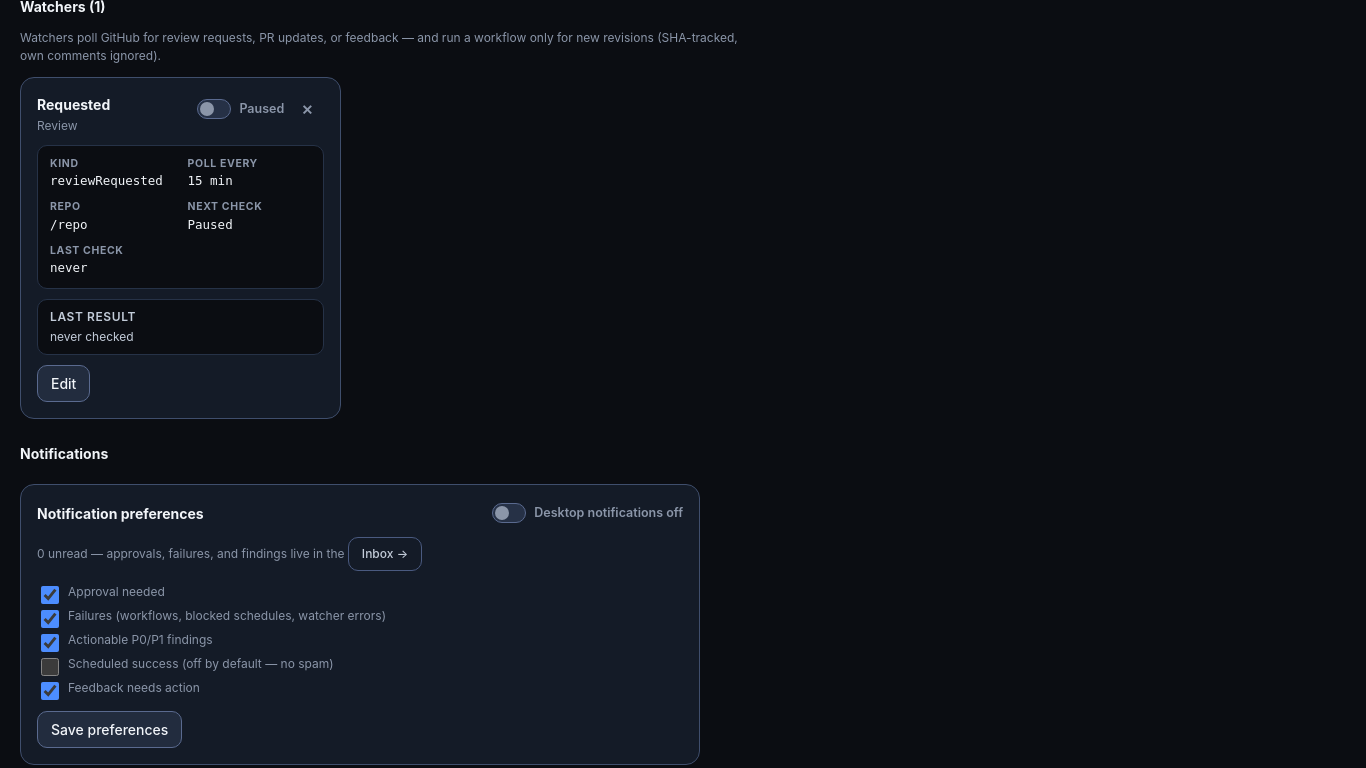
Test: shows repository validation before allowing an enabled watcher save
This screenshot has width=1366, height=768.
Click the button "Edit". click: (64, 384)
box: [37, 365, 90, 402]
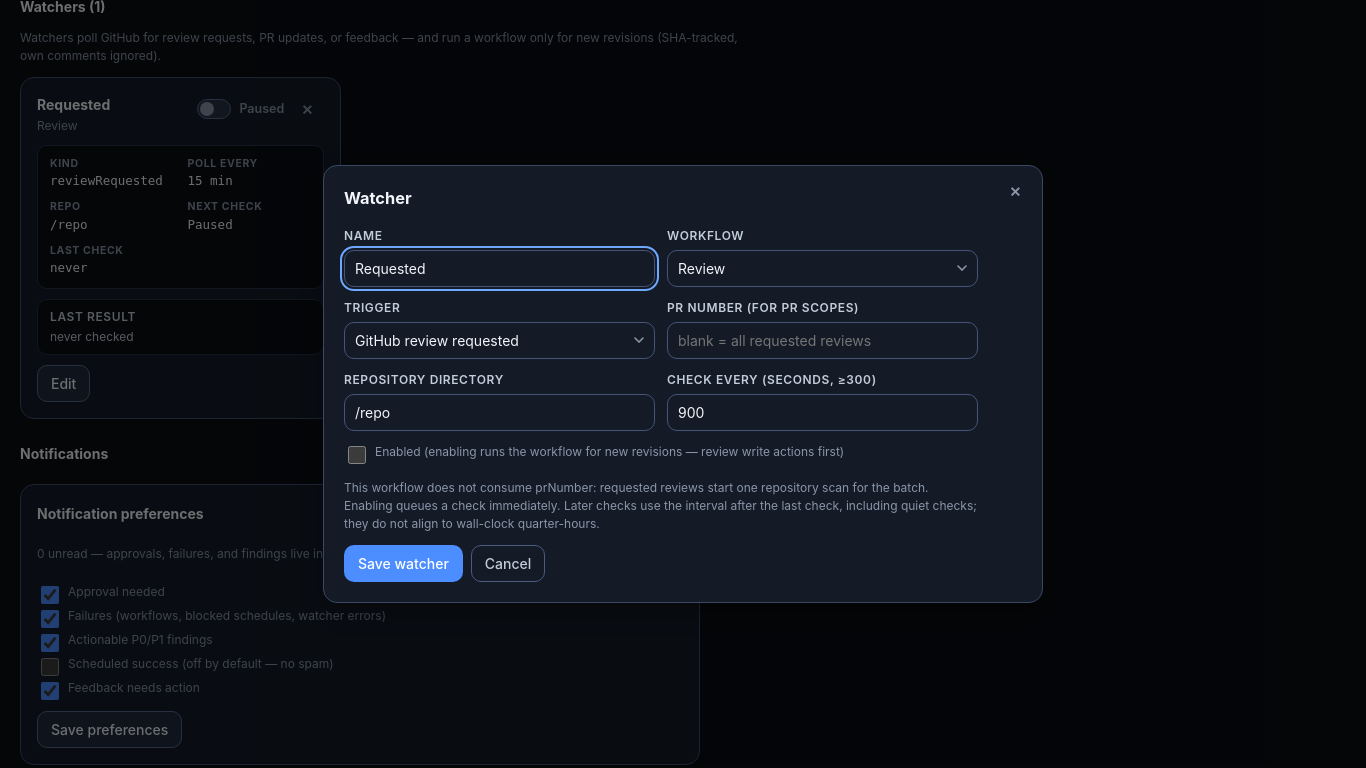
Click the checkbox labelled "Enabled". click: (357, 455)
box: [348, 446, 366, 464]
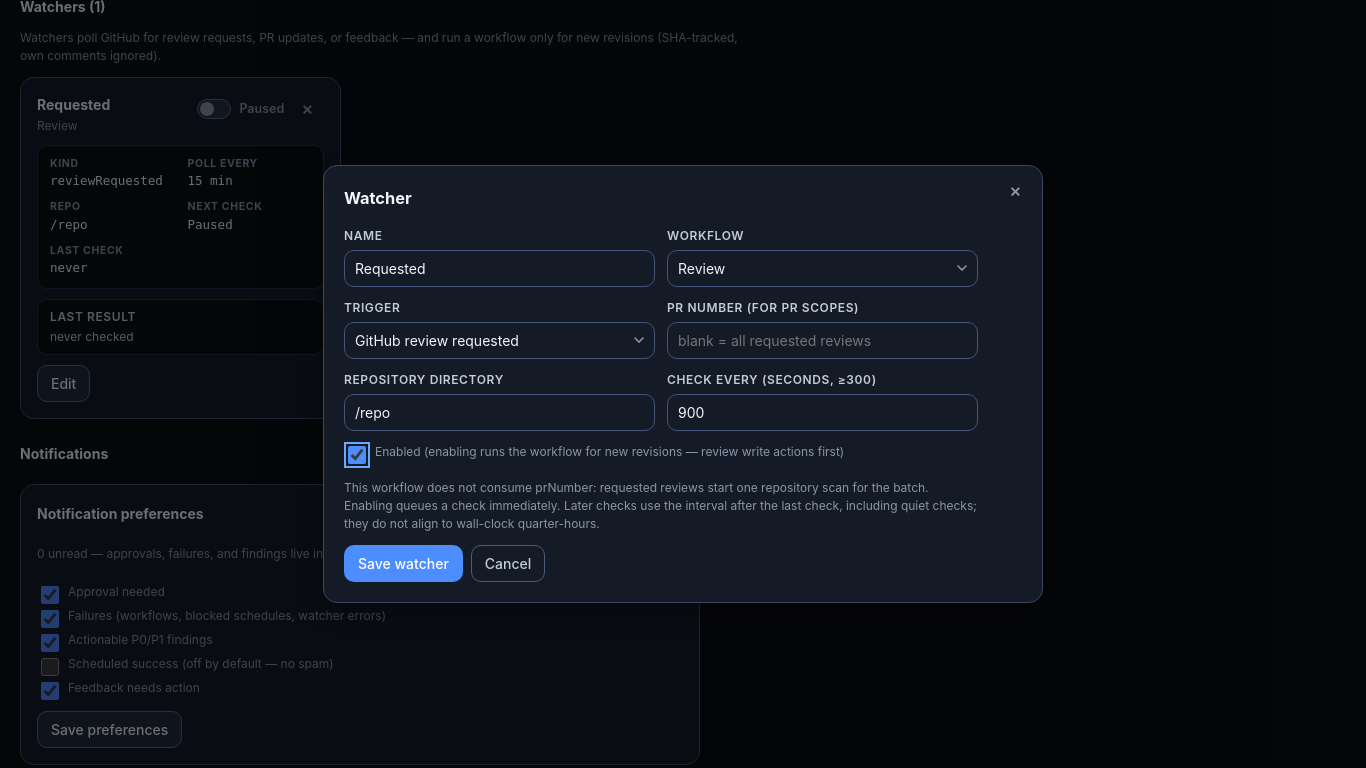
Expected: the text "Watcher repository does not match" is not shown
Result: the button "Save watcher" is enabled
Click the button "Save watcher". click: (403, 564)
box: [344, 545, 463, 582]
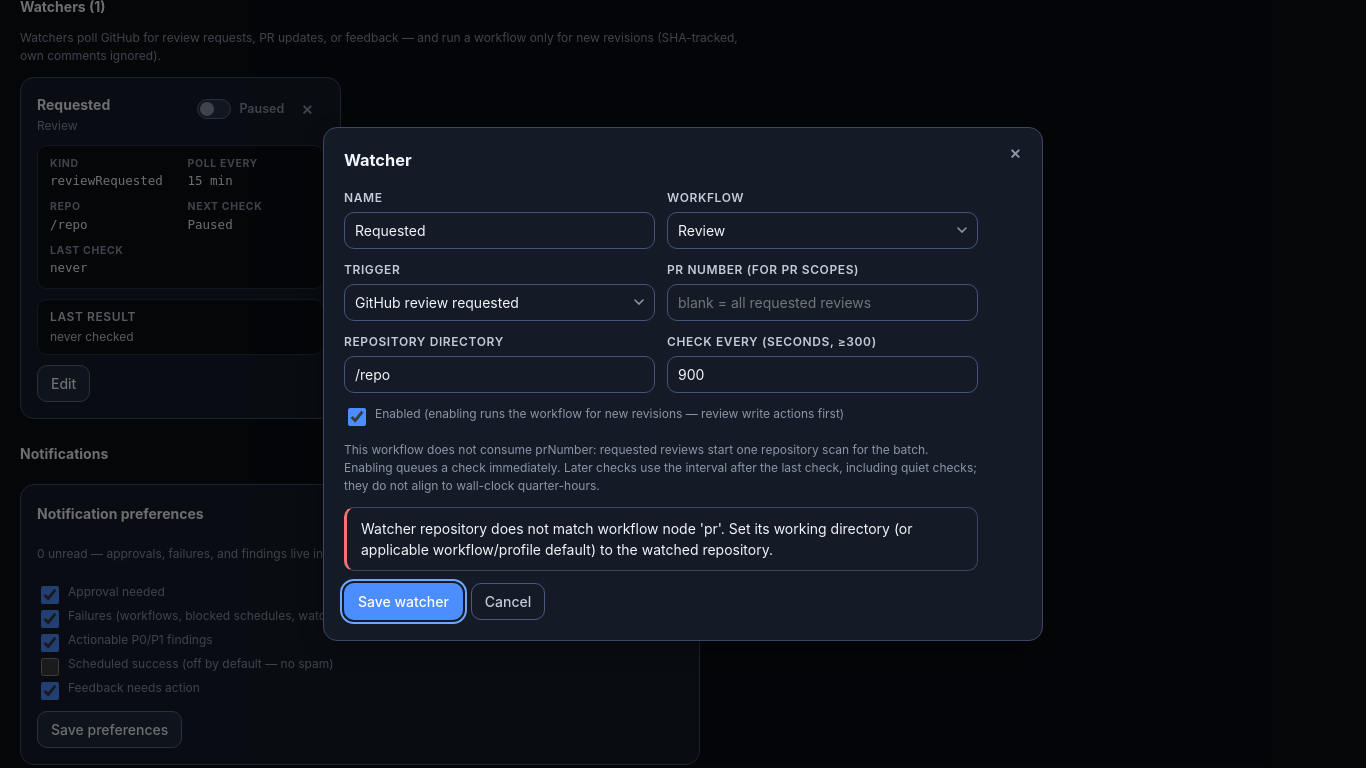
Result: the message shows "Watcher repository does not match workflow node" at [361, 520, 912, 558]
